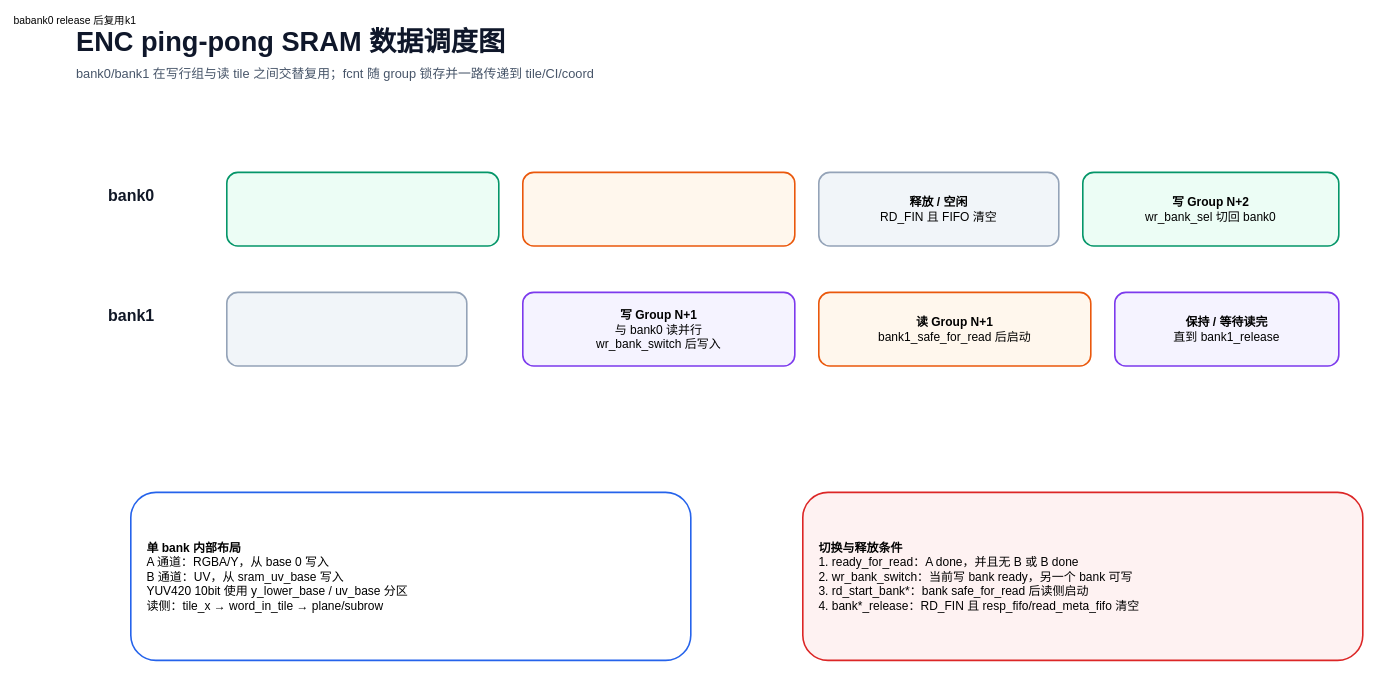
The diagram is 1378 pixels wide and 674 high, and some of its shapes have lost their labels. Here are the shapes that lost their labels. From the top down, the box of each, then its label:
(226, 171, 499, 246): 写 Group N A/Y 或 RGBA 行组写入 等待 A done / B done
(522, 171, 795, 246): 读 Group N RD_ACT 按 tile 顺序扫描 输出到 resp_fifo
(226, 291, 467, 366): 空闲 等待 bank0 ready
